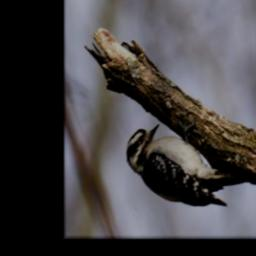Woodpecker: (119, 120, 249, 214)
